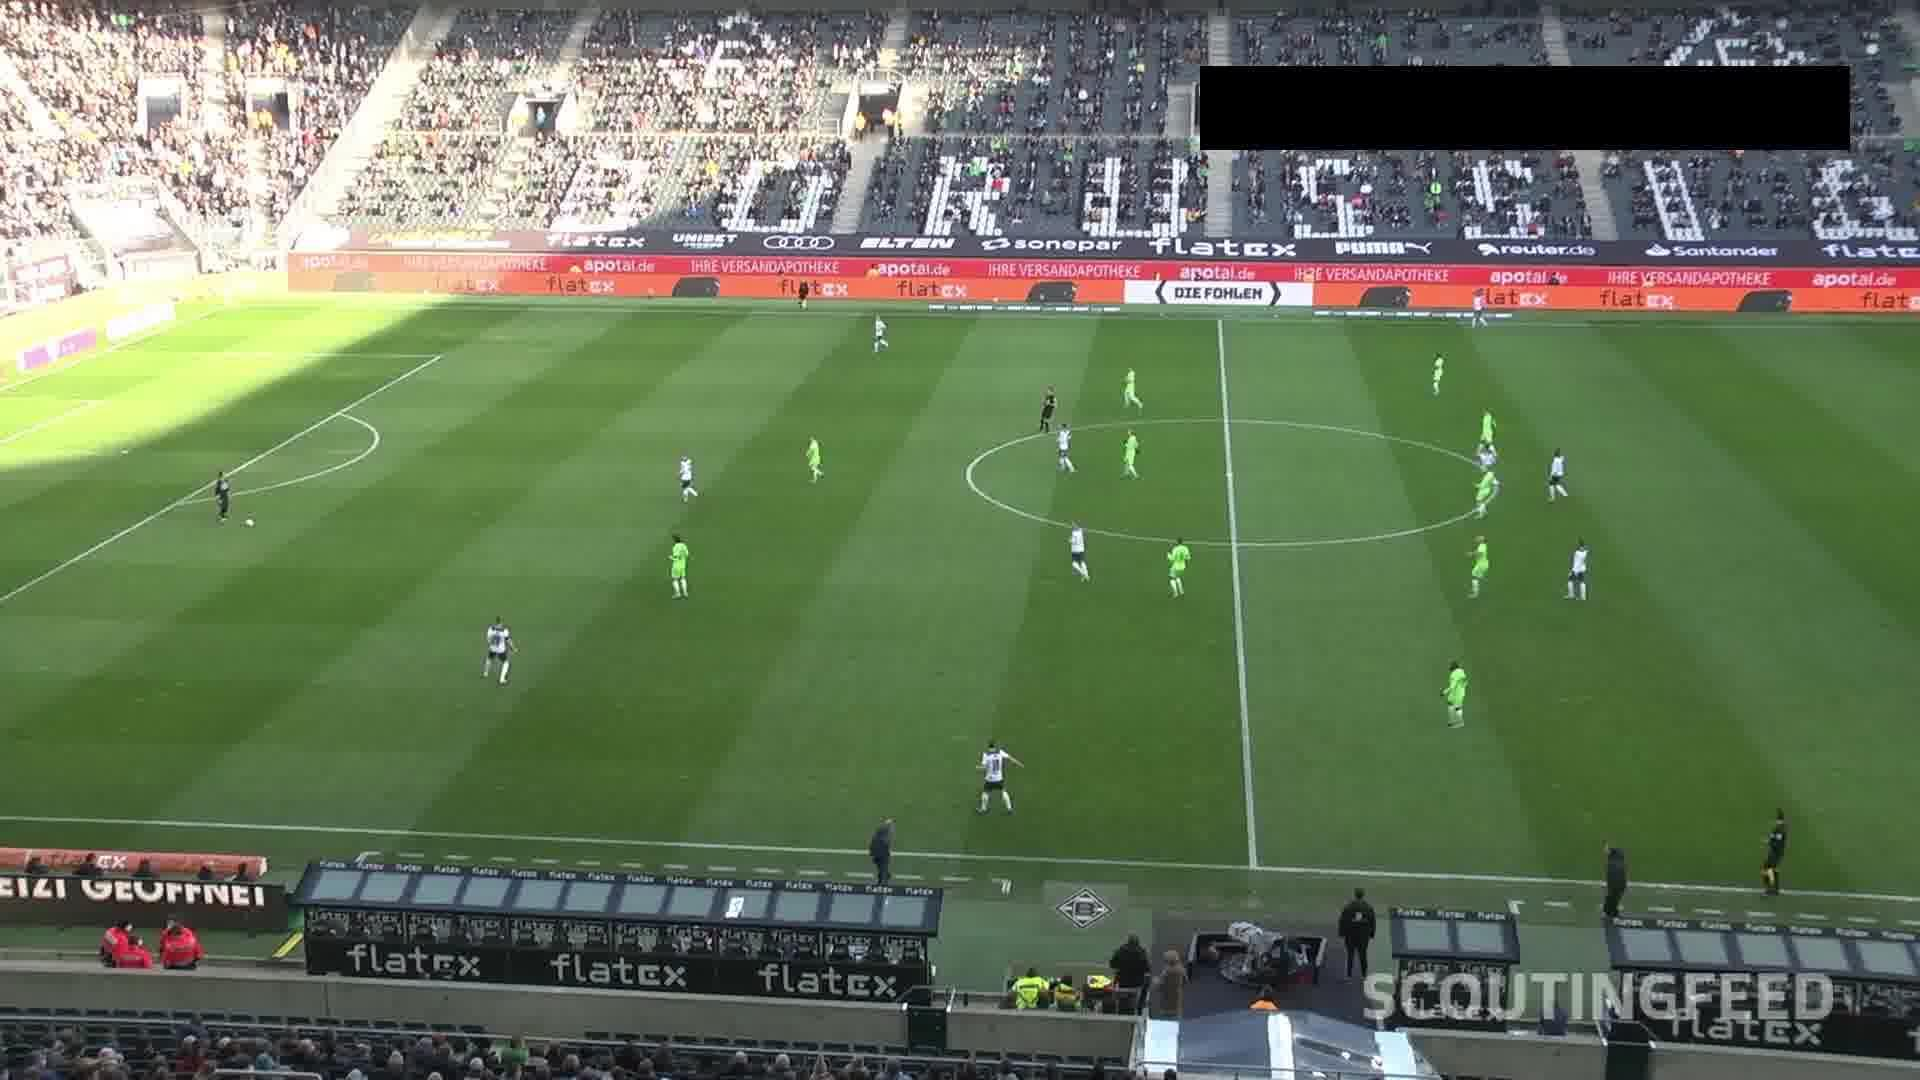football: (245, 518, 256, 527)
